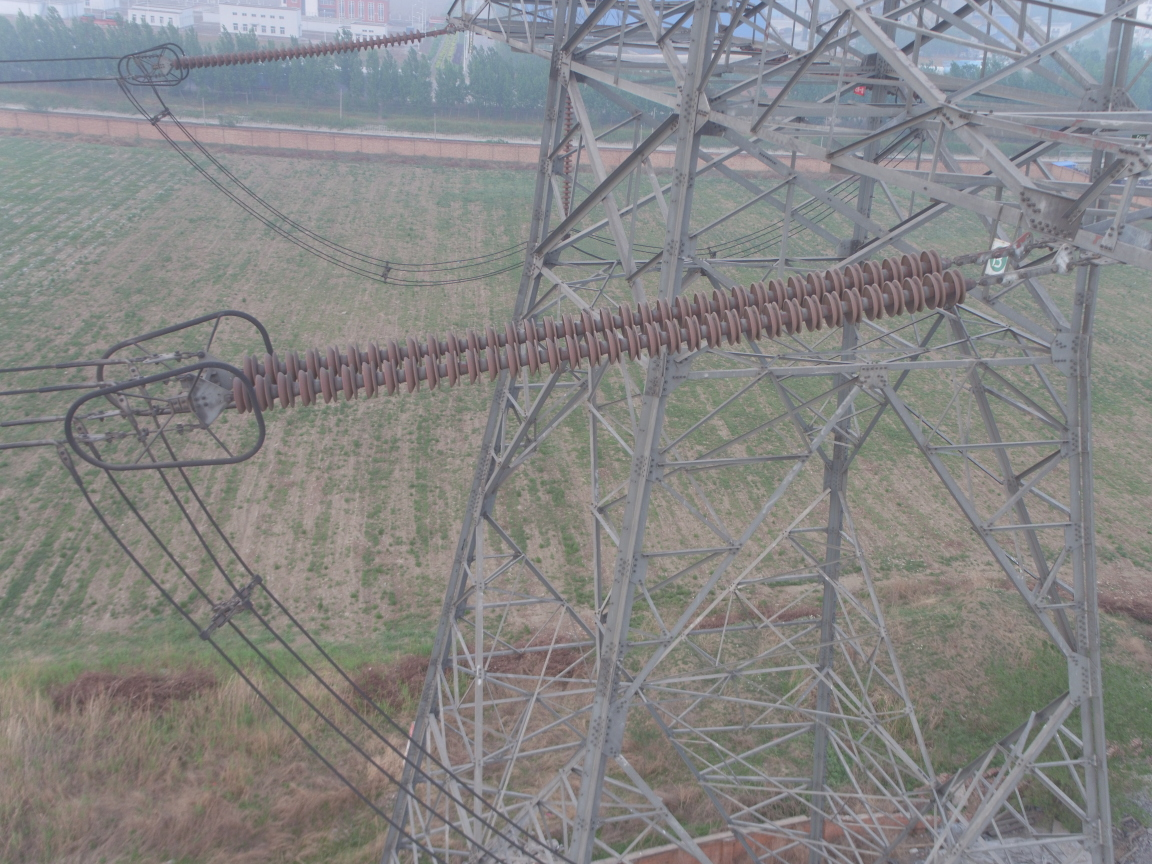insulator: (216, 246, 1001, 417), (164, 27, 440, 70)
